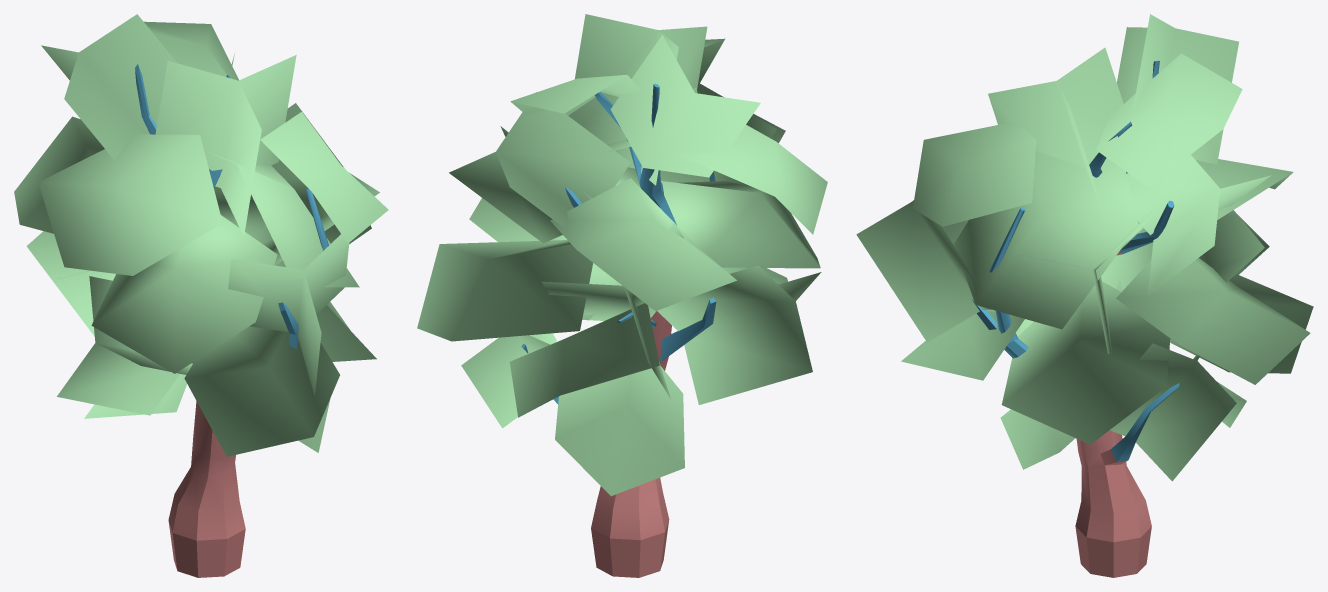
File: treeB_02.fbx
3 renders of one model, left to right at view 1: azimuth 30°, elevation 25°; view 2: azimuth 150°, elevation 25°; view 3: azimuth 270°, elevation 25°, orthographic. The views are drawn at different scales.
Visible parts, largest first — view 1: treeB_combined; view 2: treeB_combined; view 3: treeB_combined.
Part boxes in pixels (left/top/right/bottom): treeB_combined: left=14, top=14, right=388, bottom=577; treeB_combined: left=417, top=14, right=827, bottom=577; treeB_combined: left=856, top=14, right=1313, bottom=577.
Size of the model in its own units: 271 by 434 by 342.
